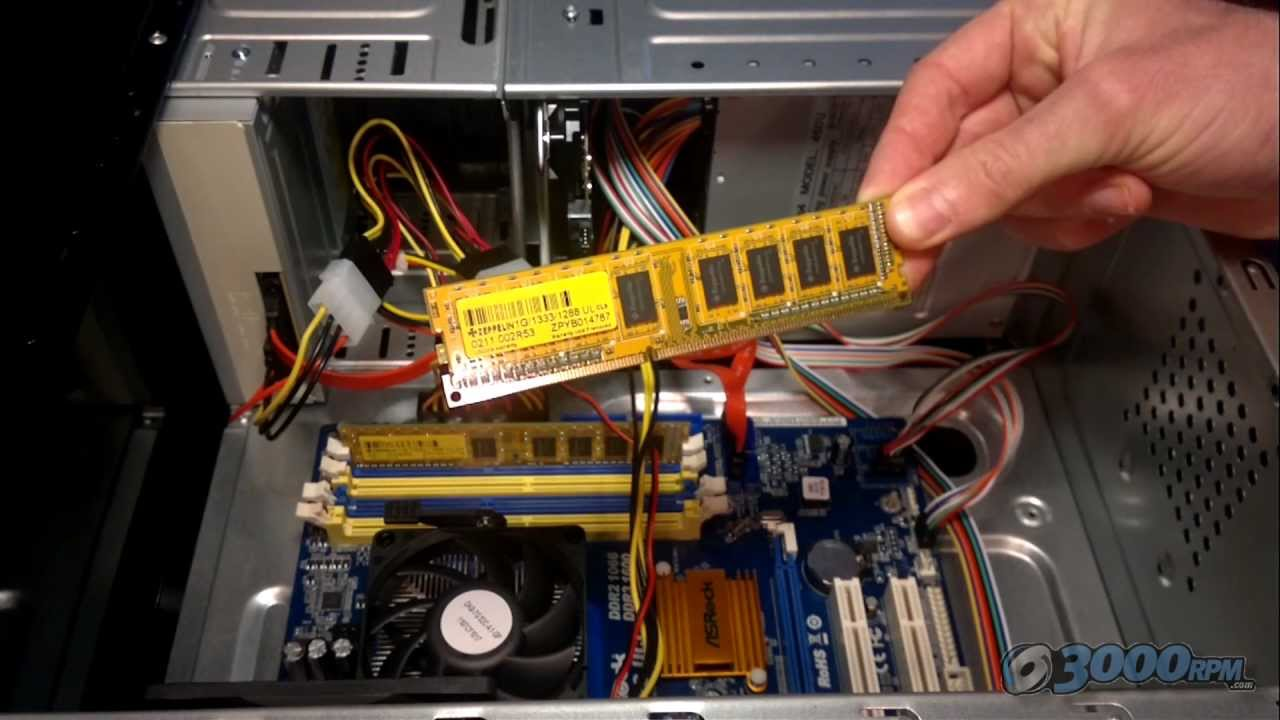ram: (423, 191, 911, 411)
